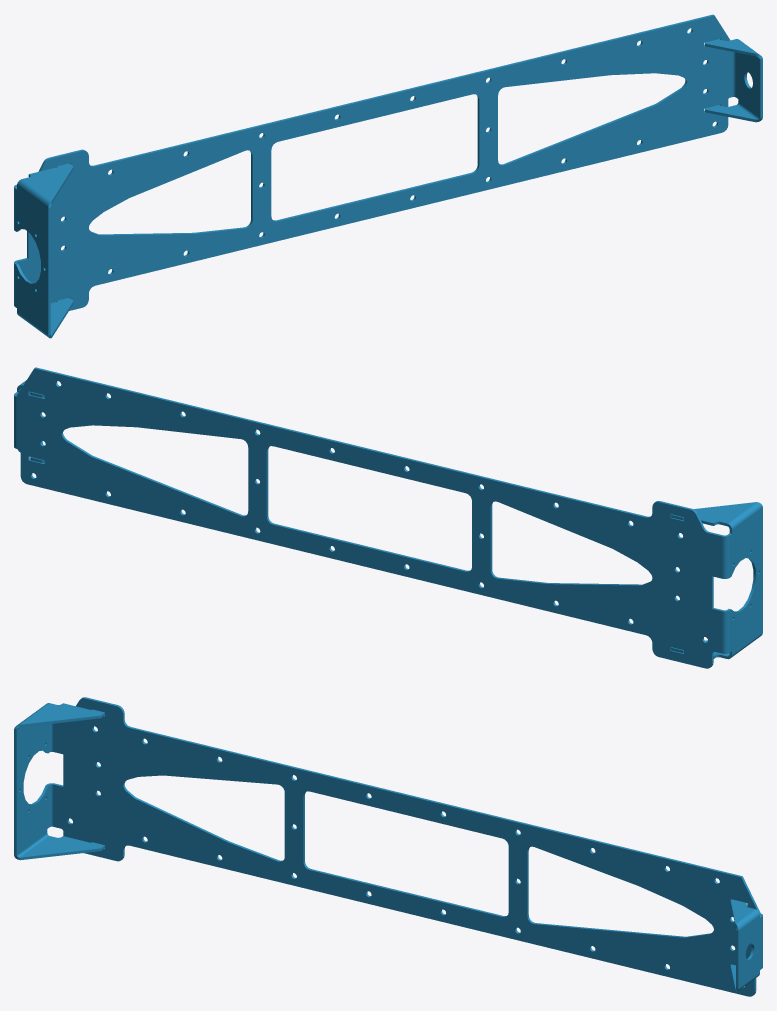
3 renders of one model, top to bottom at view 1: azimuth 30°, elevation 25°; view 2: azimuth 150°, elevation 25°; view 3: azimuth 330°, elevation 25°, orthographic.
Visible parts, largest first — view 1: mesh6711, mesh6886, mesh6738, mesh6836, mesh6881; view 2: mesh6806, mesh6886, mesh6738, mesh6881; view 3: mesh6711, mesh6885, mesh6838, mesh6738, mesh6864, mesh6881.
Boxes of the visible parts, x1,y1,x2,y2 form: mesh6711: (18,15,732,310); mesh6886: (14,186,48,334); mesh6738: (94,14,714,166); mesh6836: (736,52,760,117); mesh6881: (22,163,73,200); mesh6806: (16,368,721,668); mesh6886: (730,507,762,654); mesh6738: (34,367,646,517); mesh6881: (671,502,755,523); mesh6711: (53,698,756,996); mesh6885: (16,724,49,854); mesh6838: (738,916,762,988); mesh6738: (130,727,742,877); mesh6864: (21,836,104,857); mesh6881: (21,703,104,724).
Bounding box in the file's own units: 0.575 × 0.1191 × 0.0501.
